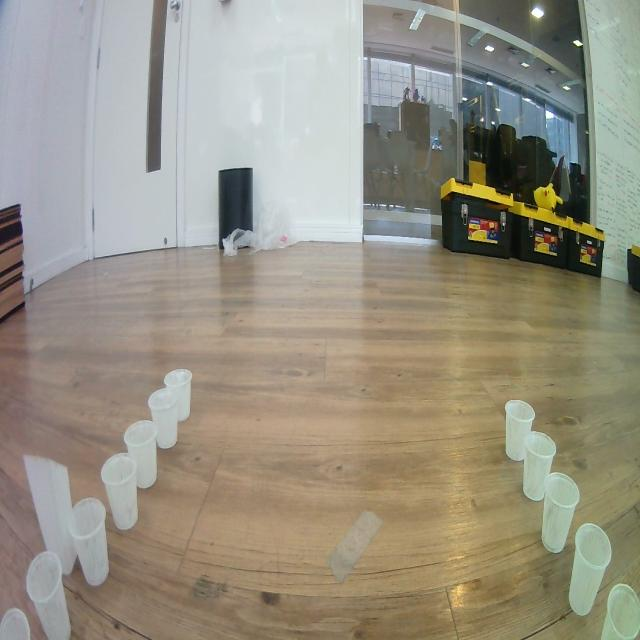erva_daninha: (23, 453, 78, 577)
planta: (568, 523, 612, 617), (26, 551, 72, 640), (68, 497, 109, 587), (541, 472, 580, 554), (101, 453, 138, 530), (522, 431, 557, 502), (124, 419, 158, 489), (599, 583, 640, 640), (504, 399, 536, 462), (148, 387, 179, 450), (163, 368, 193, 423), (0, 608, 31, 640)
